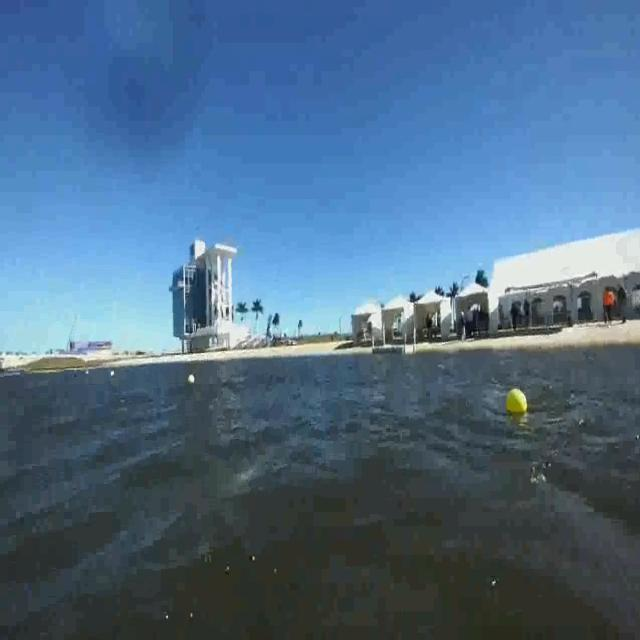yellow-buoy: (504, 390, 526, 416)
